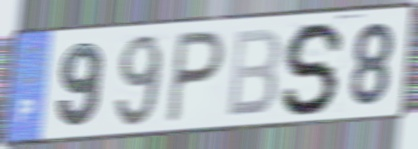8: (348, 19, 395, 109)
9: (112, 32, 166, 130), (54, 38, 106, 133)
B: (224, 26, 284, 121)
P: (164, 27, 227, 126)
S: (279, 19, 349, 119)
